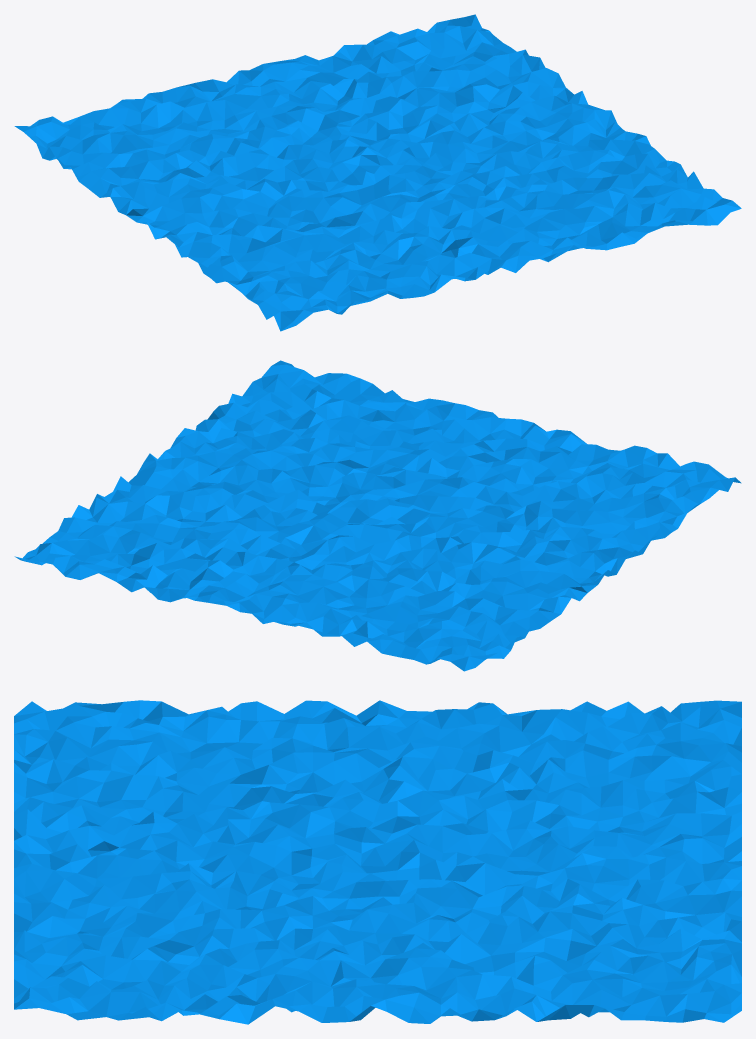
The model's file is slow_oceanwater_for_unity2.fbx.
3 renders of one model, top to bottom at view 1: azimuth 30°, elevation 25°; view 2: azimuth 150°, elevation 25°; view 3: azimuth 270°, elevation 25°, orthographic. The views are drawn at different scales.
Parts seen in each view (by area): view 1: Plane; view 2: Plane; view 3: Plane.
Part boxes in pixels (x1,y1,x2,y2): Plane: (14,14,741,331); Plane: (14,360,741,671); Plane: (14,700,741,1024).
Bounding box in the file's own units: 5514 × 186 × 5514.
